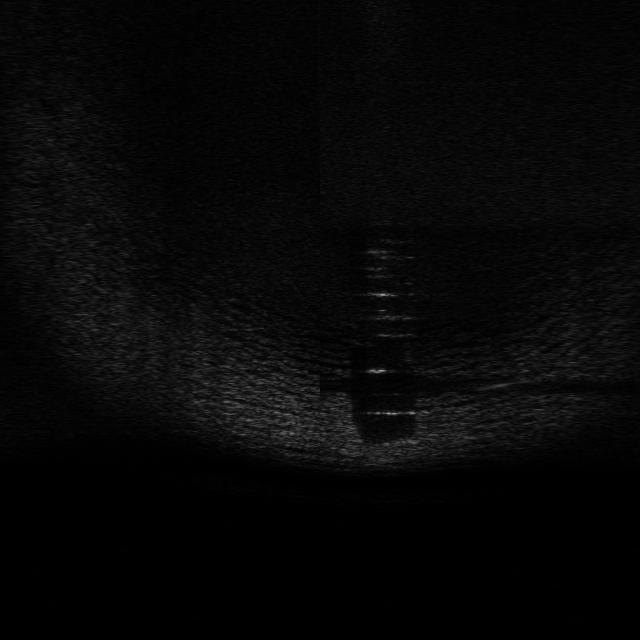cube: (361, 436, 423, 467)
